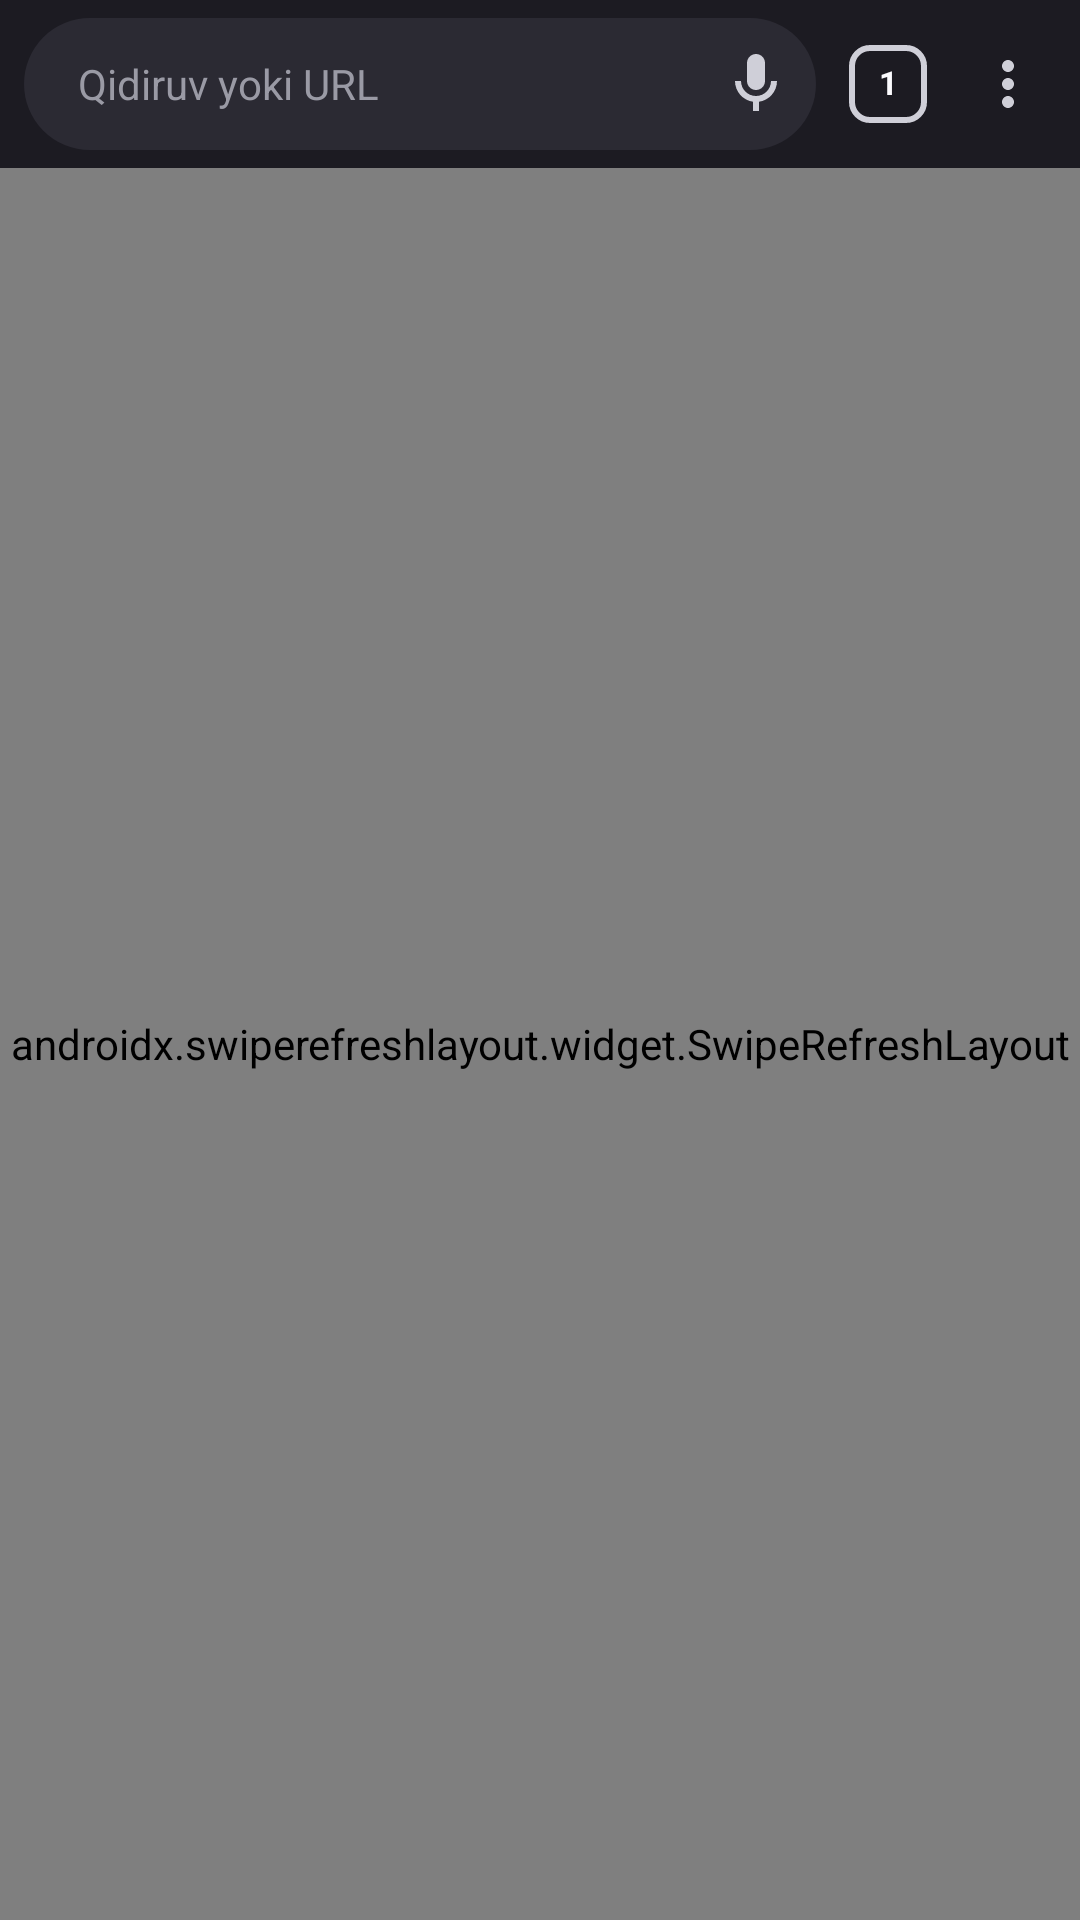

Where to tap for icons on this 1080×1920 app screen, as [x,y]:
More: [1008,84]
Voice: [756,82]
